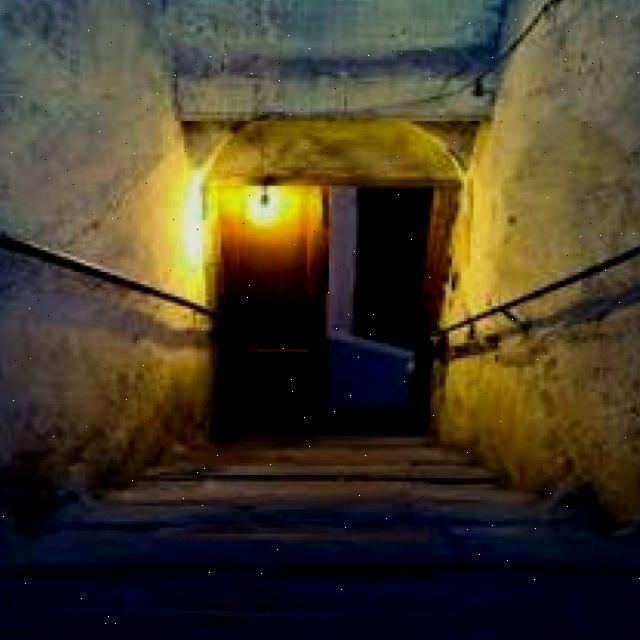stair: (46, 445, 594, 592)
